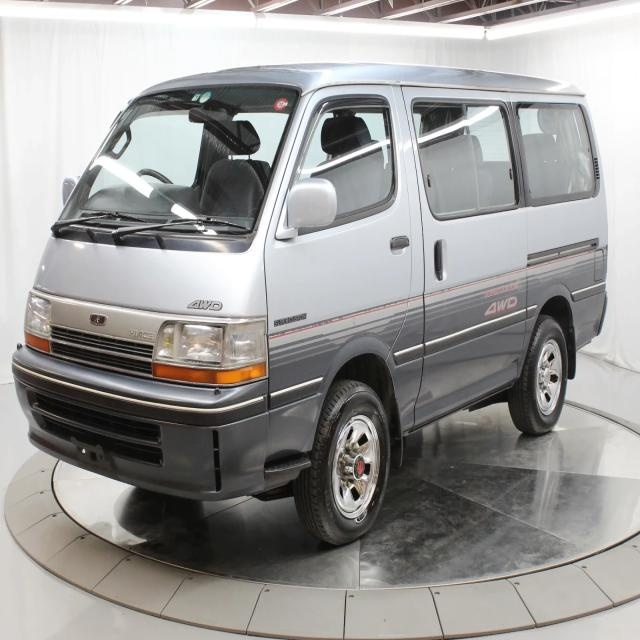Van: (15, 59, 615, 533)
